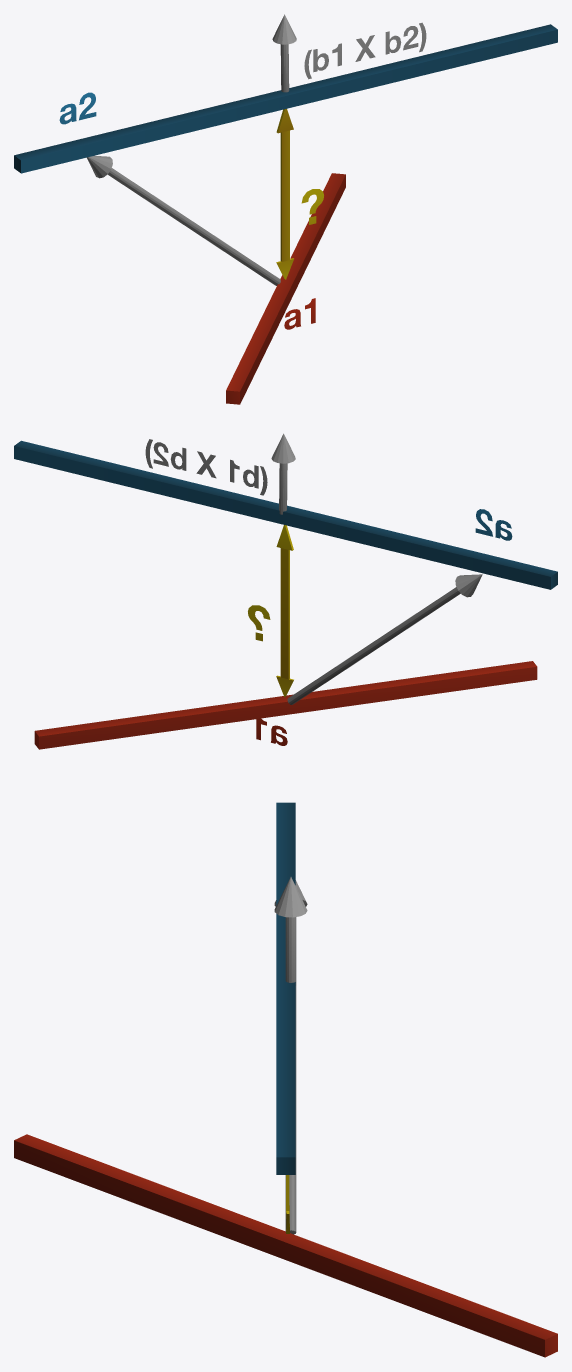
3 views of the same model, one above another, from view 1: azimuth 30°, elevation 25°; view 2: azimuth 150°, elevation 25°; view 3: azimuth 270°, elevation 25° (orthographic). The views are drawn at different scales.
Visible parts, largest first — view 1: Cube.012, Cube.013, Cylinder, Plane, Text.009, Cylinder.001, Text.008; view 2: Cube.012, Cube.013, Cylinder, Plane, Text.009, Cylinder.001, Text.008; view 3: Cube.013, Cube.012, Cylinder.001, Cylinder.
Part boxes in pixels (bbox=[...]): Cube.012: bbox=[14, 24, 557, 173]; Cube.013: bbox=[226, 173, 345, 404]; Cylinder: bbox=[87, 155, 280, 285]; Plane: bbox=[276, 109, 293, 279]; Text.009: bbox=[304, 22, 426, 79]; Cylinder.001: bbox=[272, 14, 296, 92]; Text.008: bbox=[59, 92, 96, 124]; Cube.012: bbox=[14, 440, 557, 589]; Cube.013: bbox=[34, 661, 537, 749]; Cylinder: bbox=[287, 574, 482, 704]; Plane: bbox=[276, 525, 293, 697]; Text.009: bbox=[145, 439, 267, 495]; Cylinder.001: bbox=[271, 433, 295, 514]; Text.008: bbox=[475, 509, 512, 540]; Cube.013: bbox=[14, 1134, 557, 1357]; Cube.012: bbox=[276, 802, 295, 1174]; Cylinder.001: bbox=[274, 877, 307, 985]; Cylinder: bbox=[274, 880, 307, 1234].
Size of the model in its own units: 3.12 by 1.75 by 2.02.
Materials: 1 (1 with a texture image).
